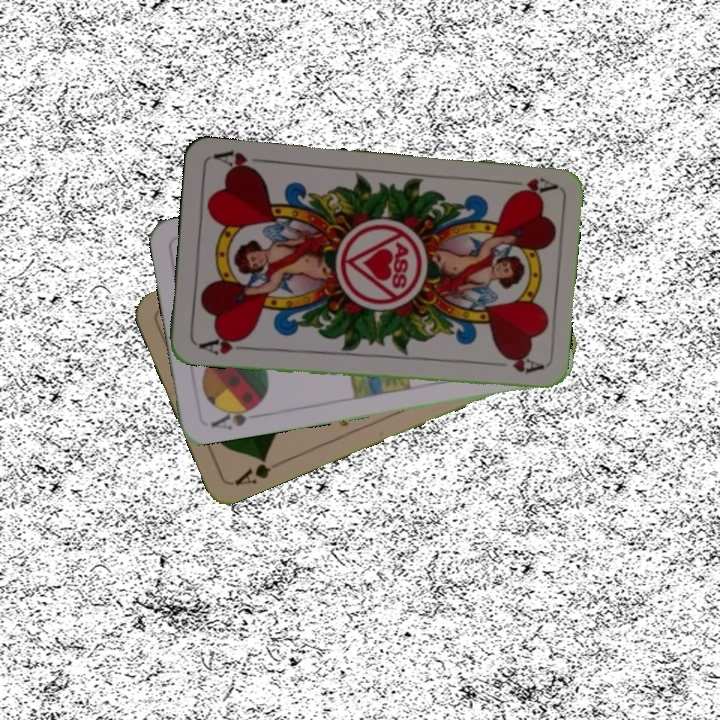GA: (230, 451, 274, 488)
HA: (499, 173, 558, 200), (194, 332, 253, 358)
SA: (207, 400, 261, 432)
